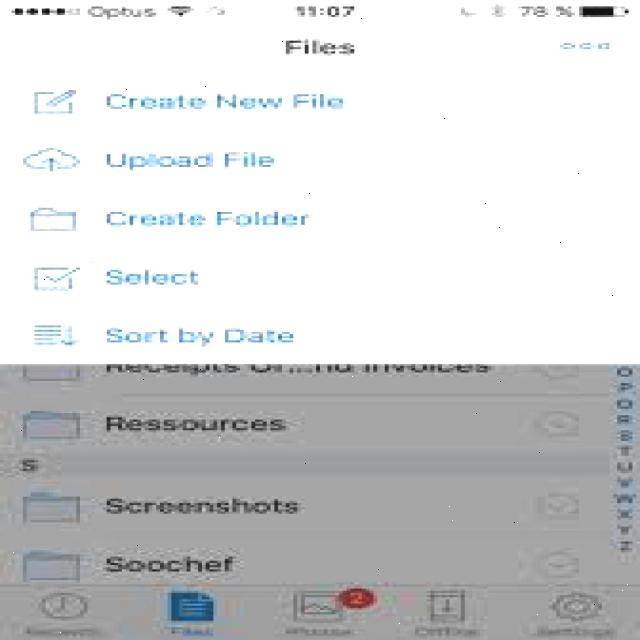button: (288, 586, 376, 626), (18, 404, 82, 444), (19, 487, 84, 525), (19, 144, 87, 177), (548, 588, 606, 626), (23, 548, 83, 584), (24, 202, 80, 239), (425, 587, 476, 627), (167, 586, 222, 622), (37, 588, 93, 623), (24, 264, 89, 294), (28, 320, 84, 354), (24, 88, 85, 115)
label: (97, 83, 361, 120), (101, 488, 307, 528), (102, 200, 318, 237), (100, 404, 294, 442), (99, 318, 304, 353), (100, 144, 288, 174), (99, 259, 209, 294), (99, 550, 234, 576), (276, 28, 362, 63)
